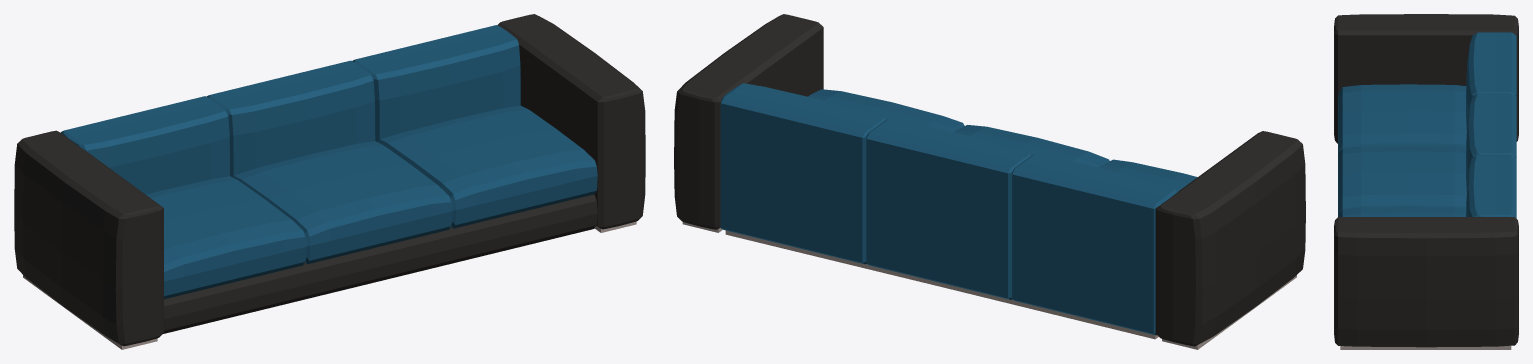
The model's file is Straight Sofa.fbx.
The picture shows the model from 3 angles, left to right: view 1: azimuth 30°, elevation 25°; view 2: azimuth 150°, elevation 25°; view 3: azimuth 270°, elevation 25°; orthographic projection. The views are drawn at different scales.
Visible parts, largest first — view 1: Straight Sofa; view 2: Straight Sofa; view 3: Straight Sofa.
Boxes of the visible parts, x1,y1,x2,y2 form: Straight Sofa: (14, 14, 645, 349); Straight Sofa: (674, 14, 1305, 349); Straight Sofa: (1334, 14, 1518, 349).
Bounding box in the file's own units: 228 × 78.9 × 55.54.
